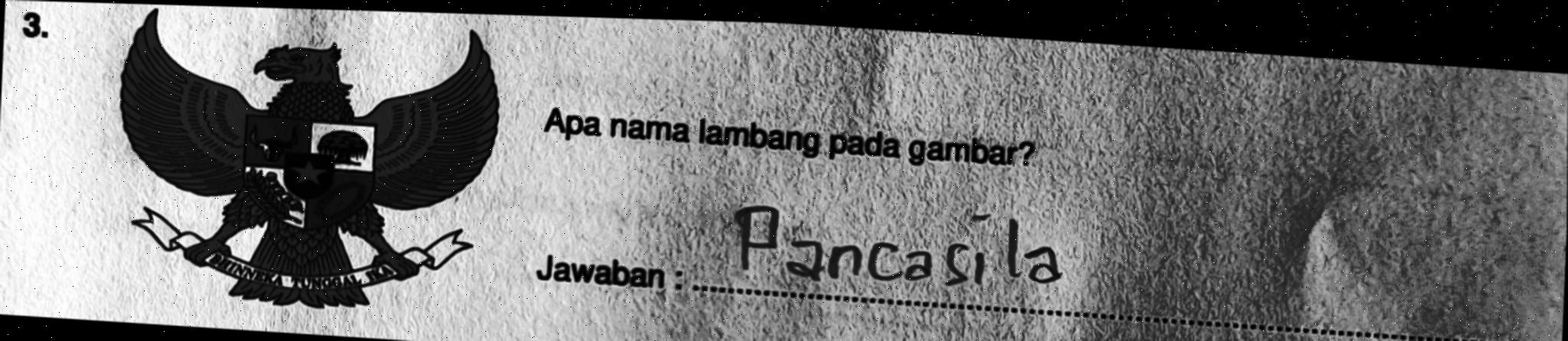jawaban: (726, 197, 1076, 297)
